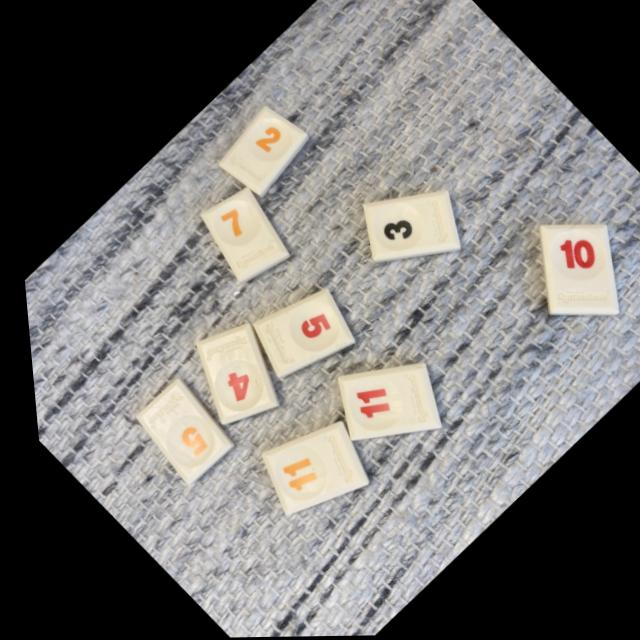black_3: (360, 192, 456, 263)
orange_11: (254, 422, 360, 515)
orange_2: (216, 107, 306, 197)
orange_5: (129, 379, 226, 485)
orange_7: (198, 188, 285, 281)
red_10: (536, 226, 613, 317)
red_11: (331, 364, 433, 441)
red_4: (190, 324, 272, 424)
red_5: (247, 290, 348, 378)
